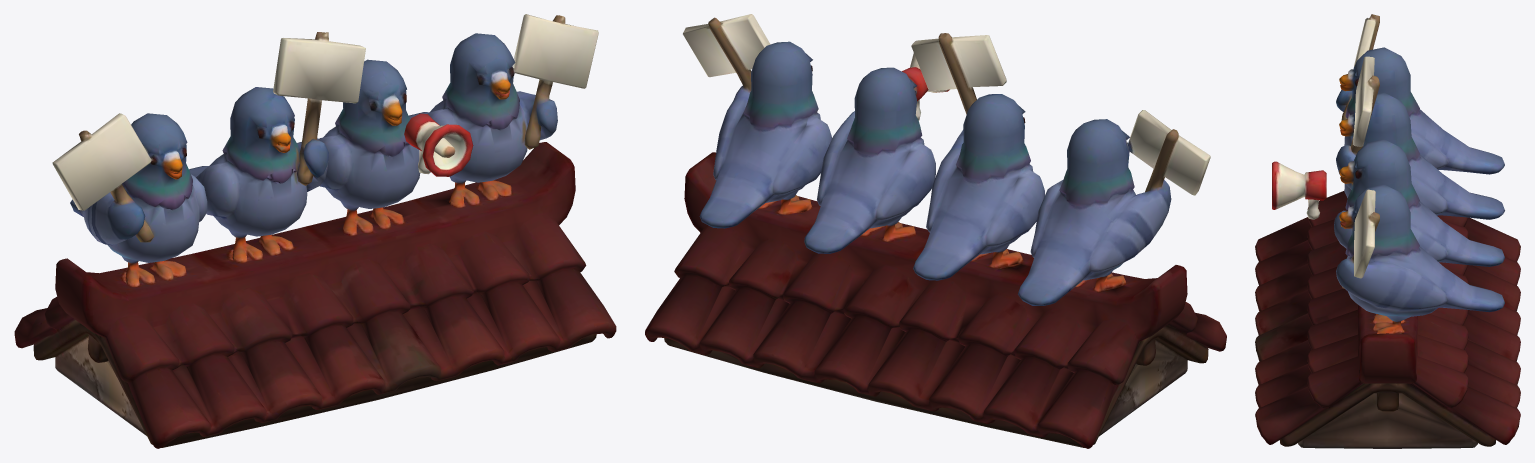
File: pigeons.glb
The picture shows the model from 3 angles, left to right: view 1: azimuth 30°, elevation 25°; view 2: azimuth 150°, elevation 25°; view 3: azimuth 270°, elevation 25°; orthographic projection. The views are drawn at different scales.
Parts seen in each view (by area): view 1: tripo_node_c3d5137f-2406-4330-967f-2633dea446a7; view 2: tripo_node_c3d5137f-2406-4330-967f-2633dea446a7; view 3: tripo_node_c3d5137f-2406-4330-967f-2633dea446a7.
Boxes of the visible parts, box(x1,y1,x2,y2) form: tripo_node_c3d5137f-2406-4330-967f-2633dea446a7: box(14, 14, 616, 448); tripo_node_c3d5137f-2406-4330-967f-2633dea446a7: box(645, 14, 1226, 448); tripo_node_c3d5137f-2406-4330-967f-2633dea446a7: box(1255, 14, 1520, 448).
Bounding box in the file's own units: 0.981 × 0.5817 × 0.4857.
1 material, 1 textured.
